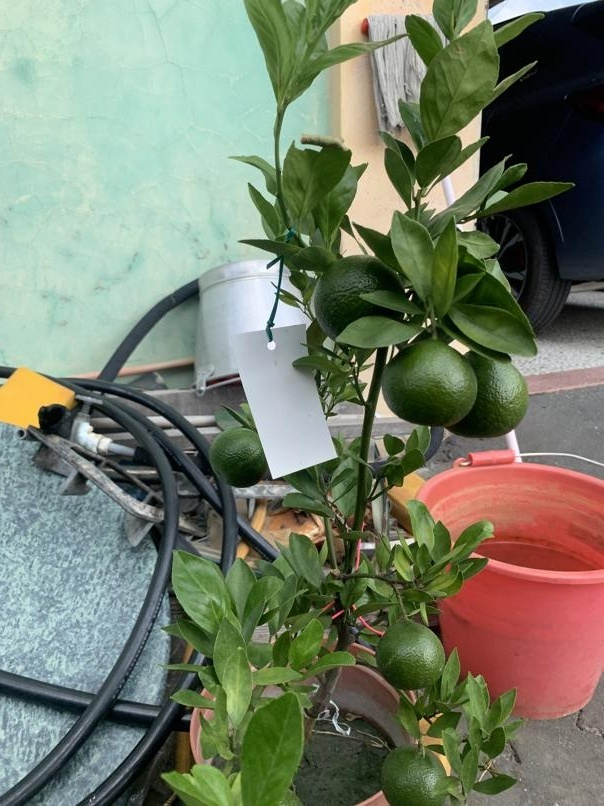Tangerine: (382, 334, 474, 430), (316, 253, 409, 341), (369, 613, 447, 690), (377, 742, 450, 806), (207, 428, 269, 488)
